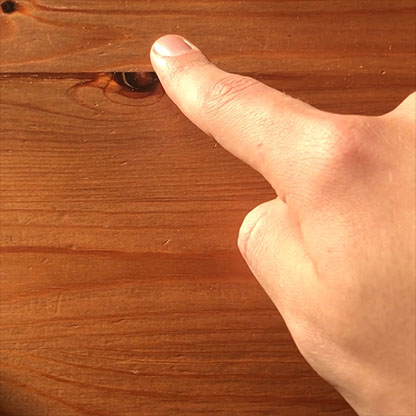fingertip: (141, 21, 211, 84)
